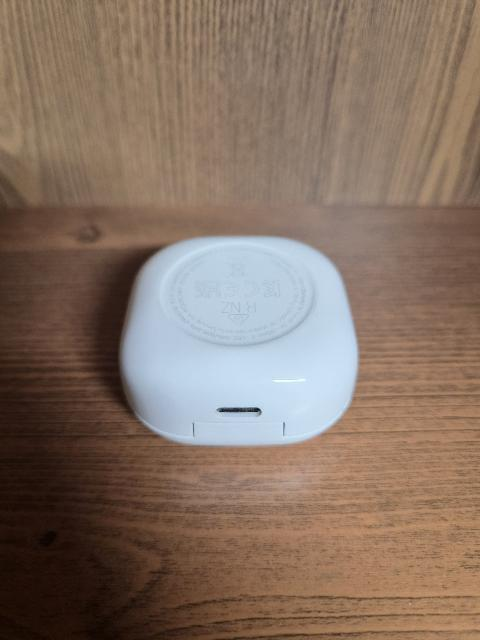earphone_case: (119, 236, 359, 447)
